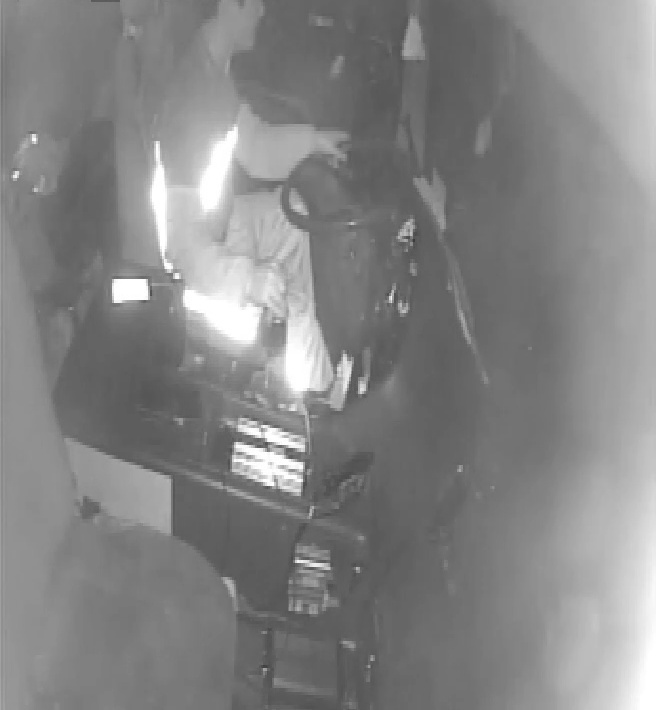cellphone: (104, 272, 157, 309)
